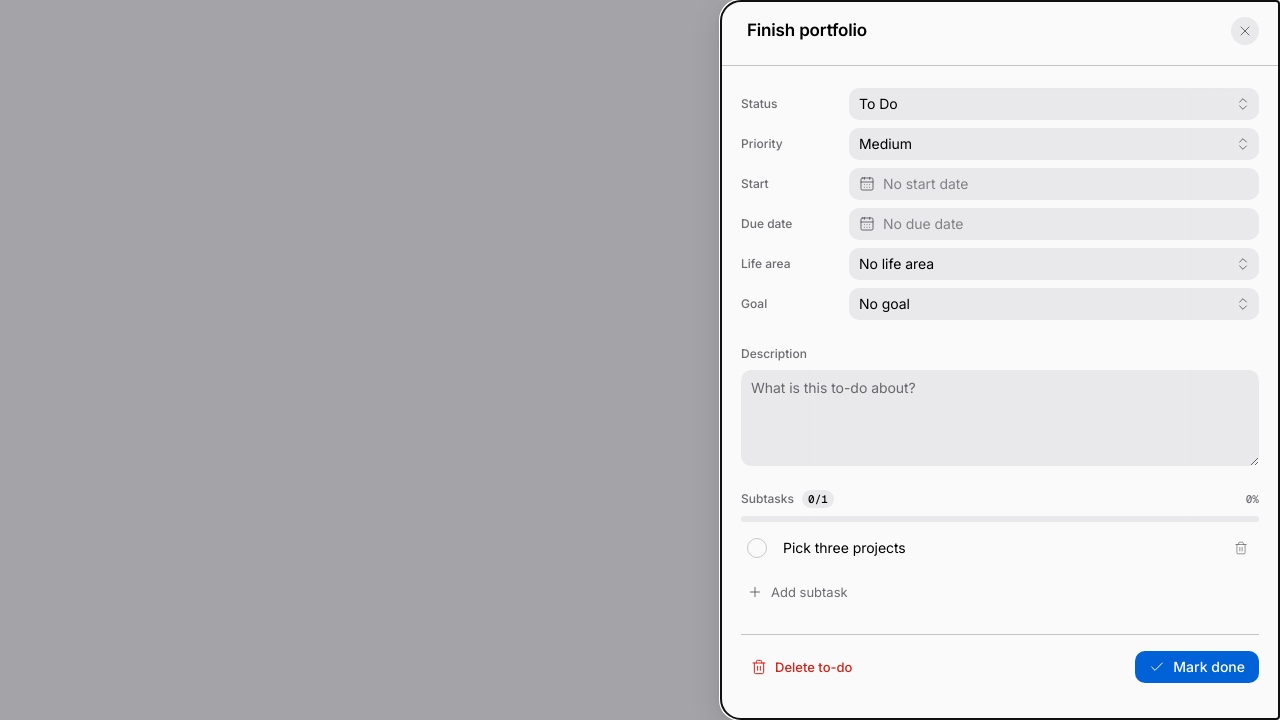
Scenario: existing steps › reverts a step rename on Escape rather than saving it
Type " and more" into the field named "rename pick three projects" at (998, 548), box [779,536,1217,560]
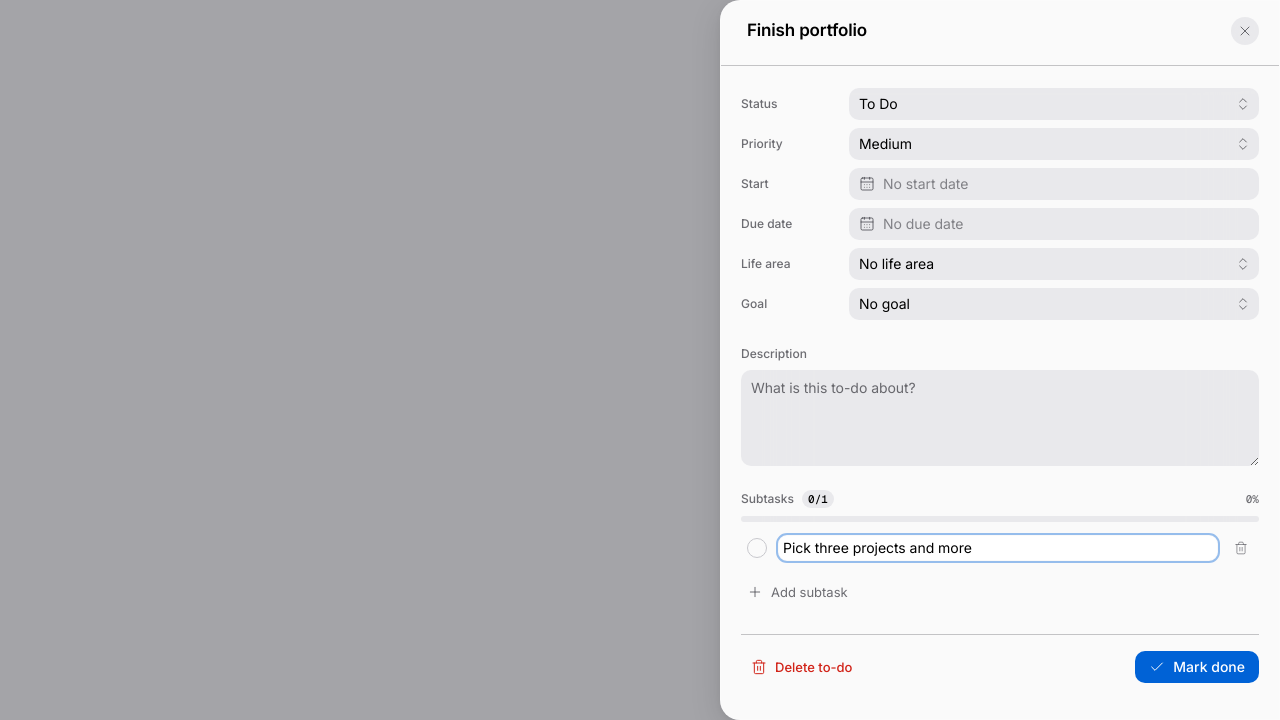
Press Escape
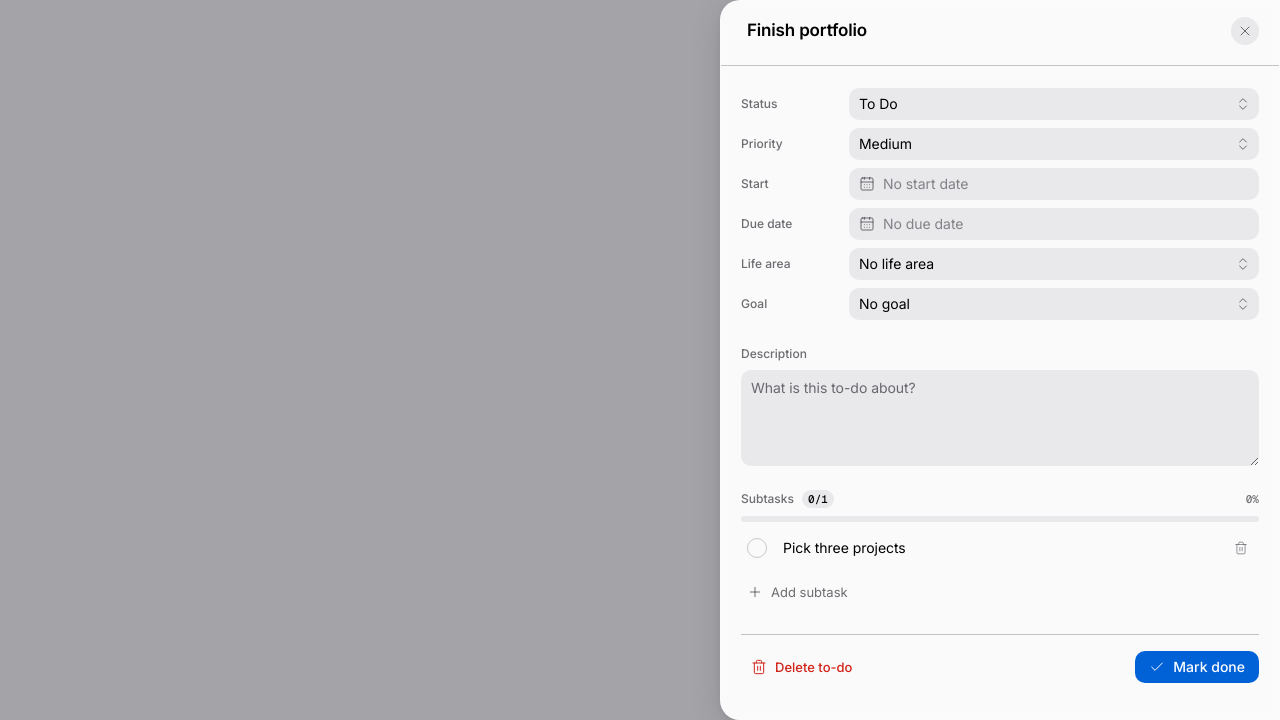
expect the field named "rename pick three projects" holds "Pick three projects": met, box [779,536,1217,560]
